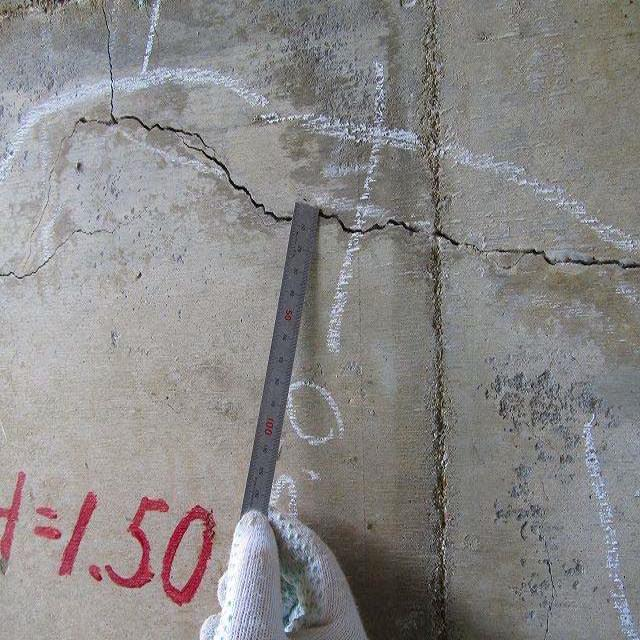crack: (60, 3, 637, 277)
